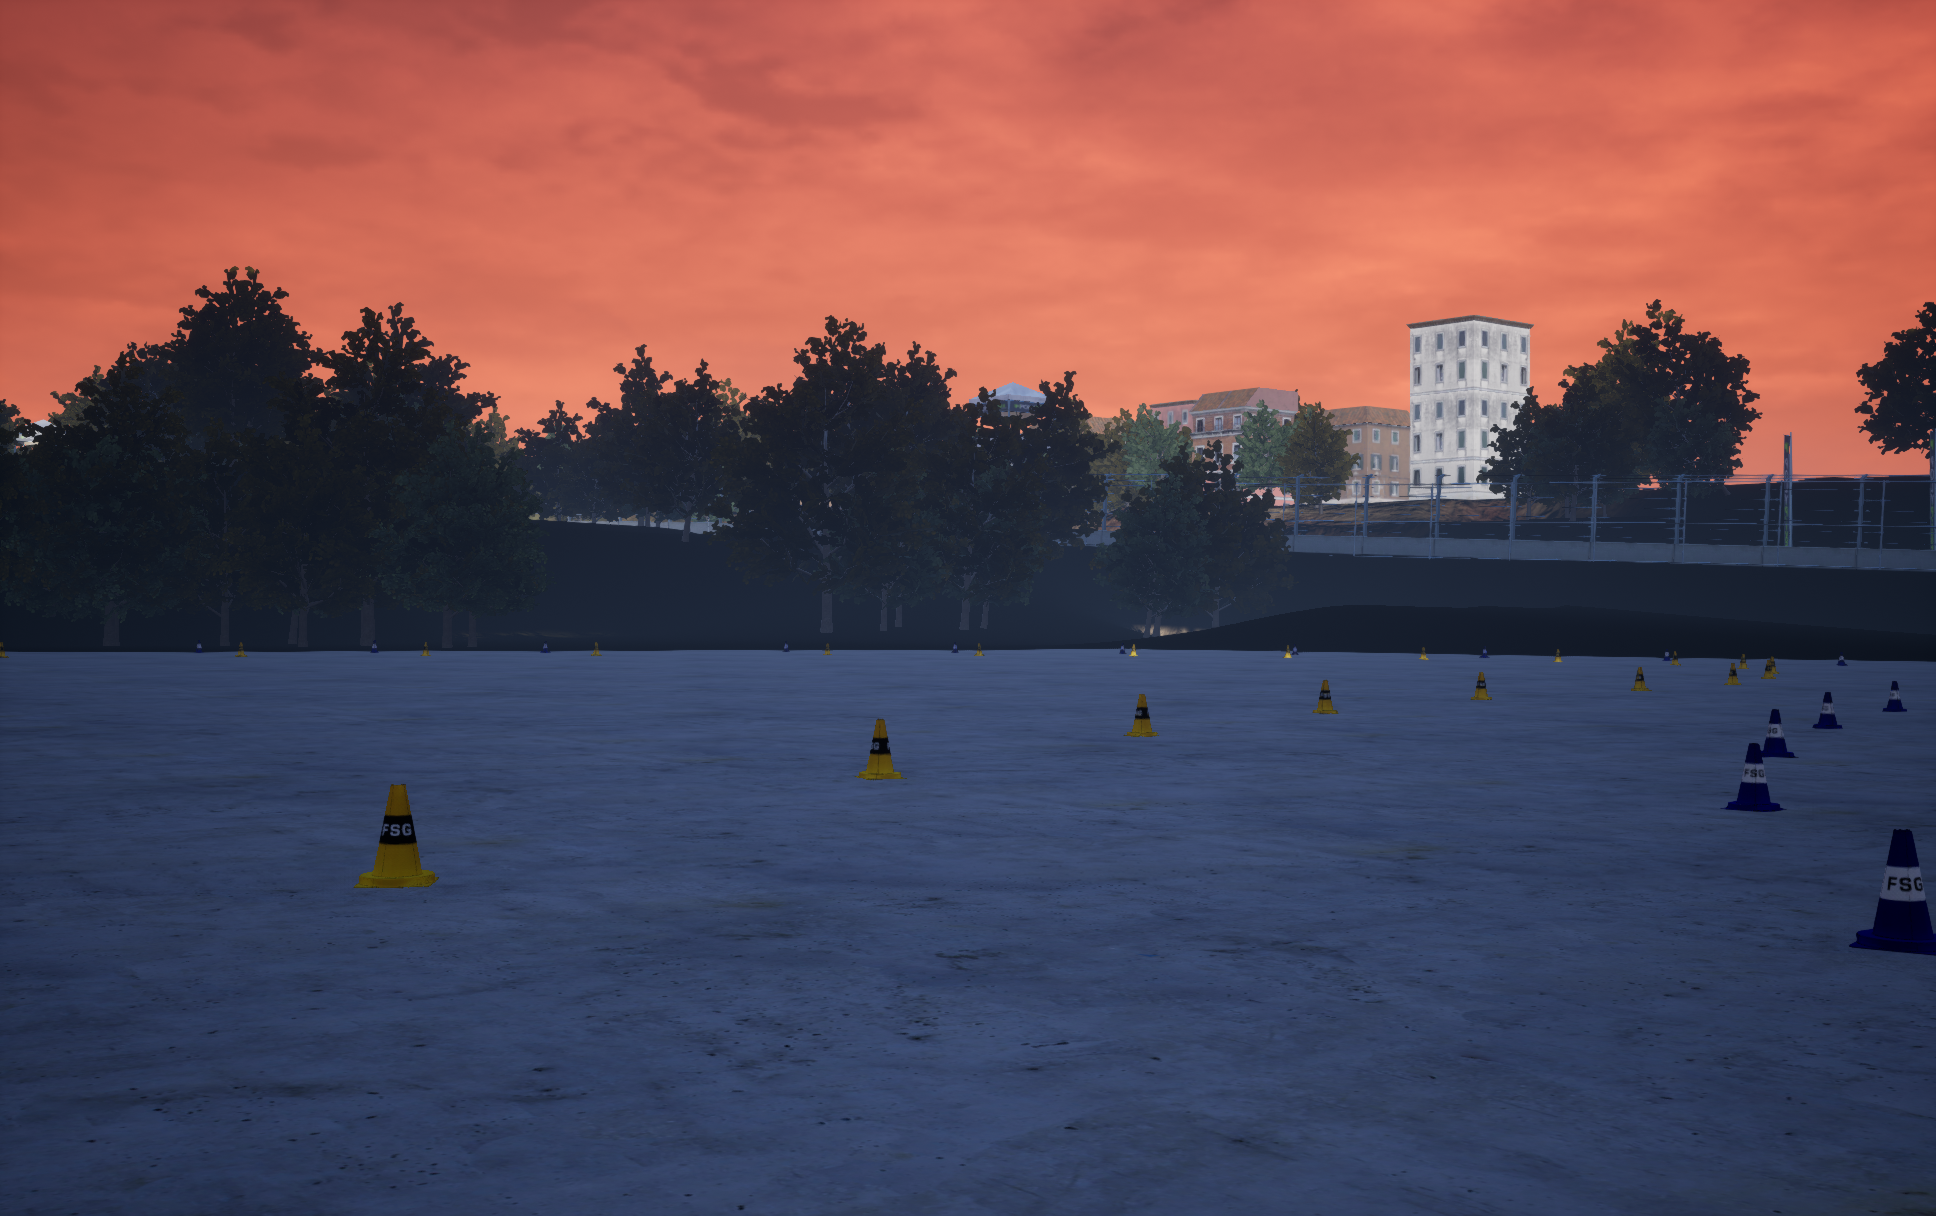blue: (353, 785, 438, 887), (855, 719, 906, 779), (1123, 693, 1159, 735), (1313, 679, 1338, 713), (1470, 672, 1491, 699), (1631, 667, 1652, 691), (1724, 663, 1741, 684)
yellow: (1849, 829, 1935, 955), (1720, 742, 1786, 811), (1761, 709, 1797, 756), (1811, 692, 1842, 728), (1881, 681, 1907, 712)
